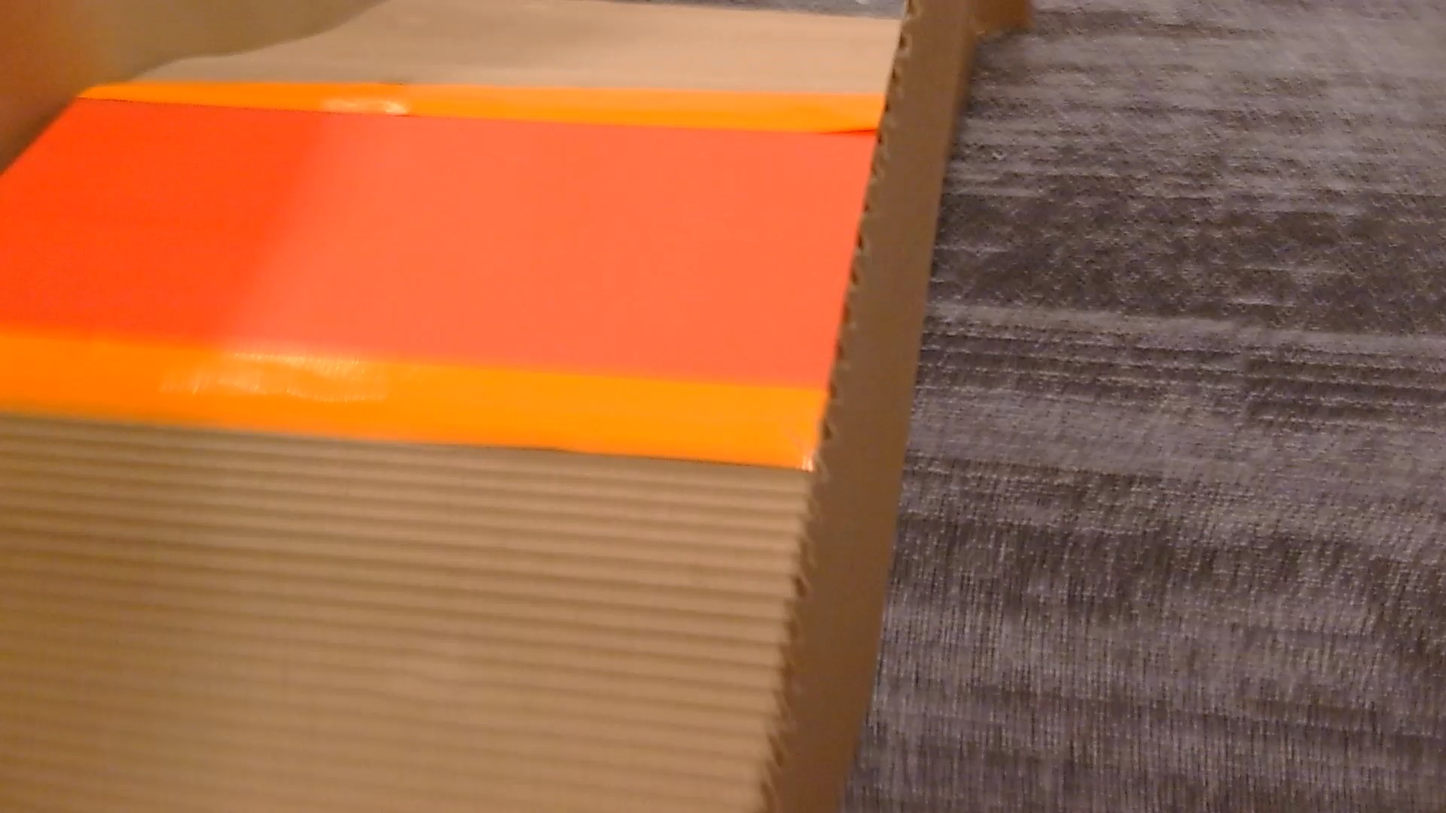Ramp: (0, 0, 981, 812)
